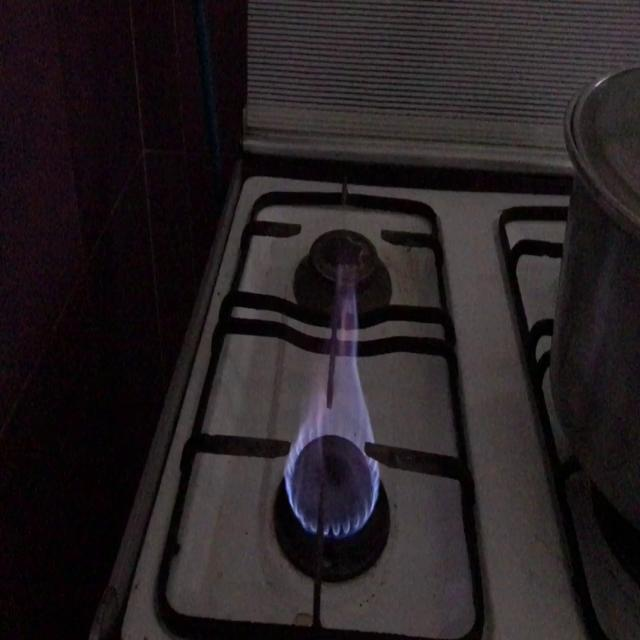Fire: (260, 294, 390, 496)
